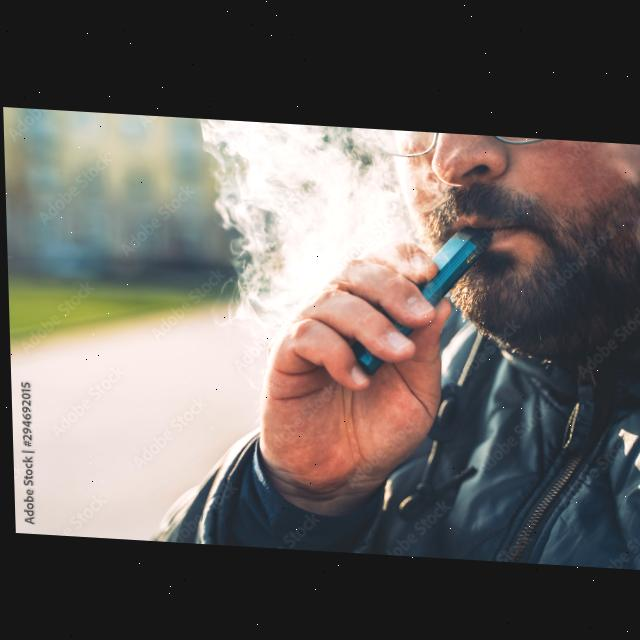vape: (341, 213, 492, 382)
